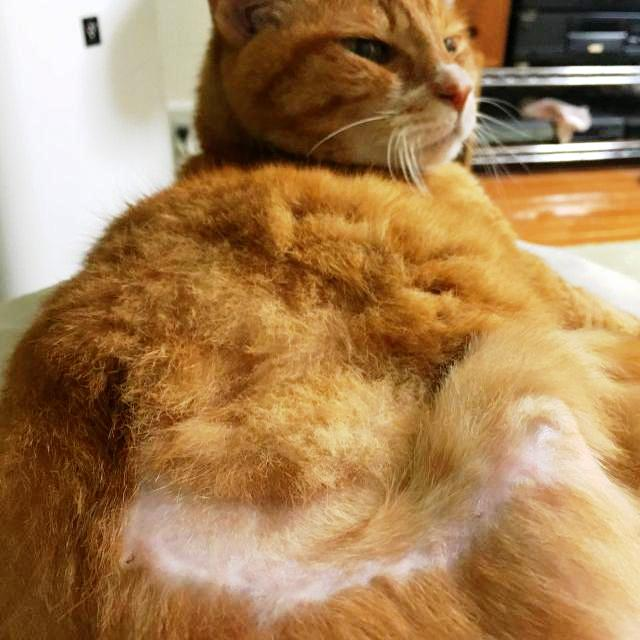hairloss: (120, 421, 562, 614)
